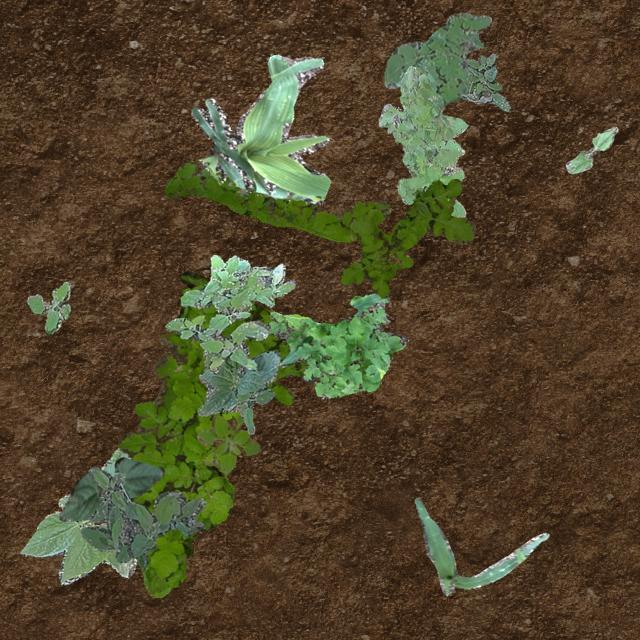crop: (190, 54, 330, 202), (20, 446, 136, 584), (413, 496, 548, 594), (198, 342, 278, 433), (59, 458, 162, 520), (564, 126, 616, 172)
weed: (116, 270, 306, 596), (162, 160, 390, 242), (340, 178, 474, 298), (164, 254, 294, 372), (264, 292, 406, 398), (378, 65, 467, 216), (80, 466, 204, 570), (384, 11, 491, 110), (196, 413, 258, 472), (458, 52, 510, 110), (202, 411, 240, 476), (26, 280, 70, 332)
